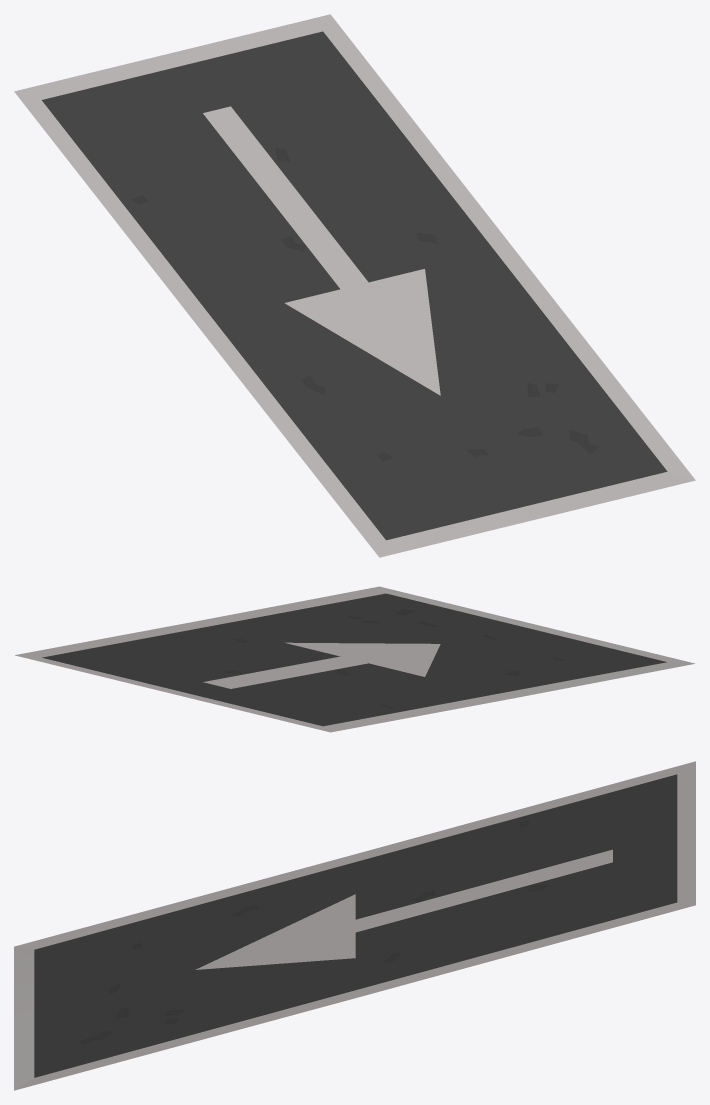
Rendered from SM_Gen_Env_Road_Ramp_01.glb.
3 views of the same model, one above another, from view 1: azimuth 30°, elevation 25°; view 2: azimuth 150°, elevation 25°; view 3: azimuth 270°, elevation 25° (orthographic). The views are drawn at different scales.
Visible parts, largest first — view 1: SM_Gen_Env_Road_Ramp_012; view 2: SM_Gen_Env_Road_Ramp_012; view 3: SM_Gen_Env_Road_Ramp_012.
Part boxes in pixels (left/top/right/bottom): SM_Gen_Env_Road_Ramp_012: left=14, top=14, right=695, bottom=557; SM_Gen_Env_Road_Ramp_012: left=15, top=586, right=694, bottom=732; SM_Gen_Env_Road_Ramp_012: left=14, top=761, right=695, bottom=1090.
Bounding box in the file's own units: 5 × 3 × 10.
Materials: 1 (1 with a texture image).
